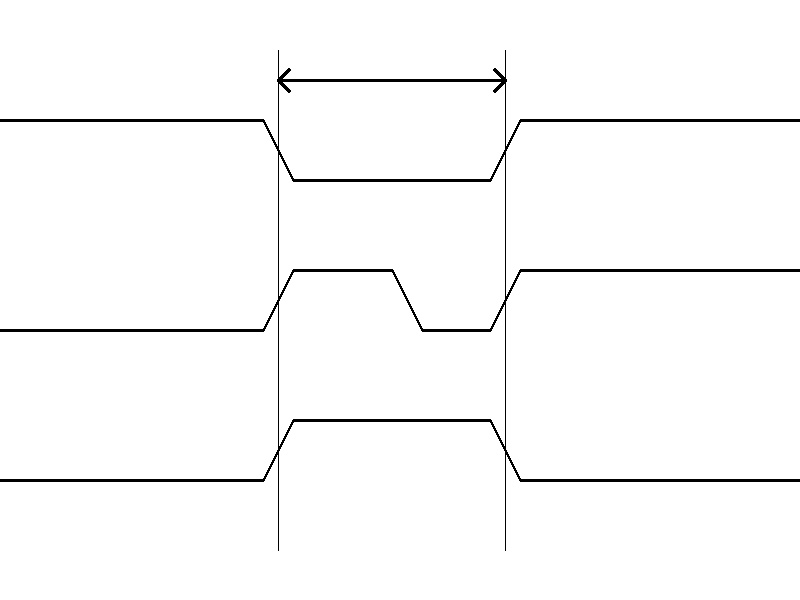double_arrow: (278, 65, 505, 95)
